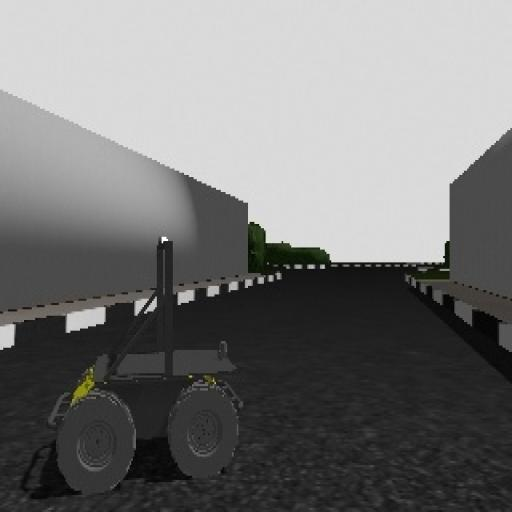huskya200: (36, 229, 260, 505)
